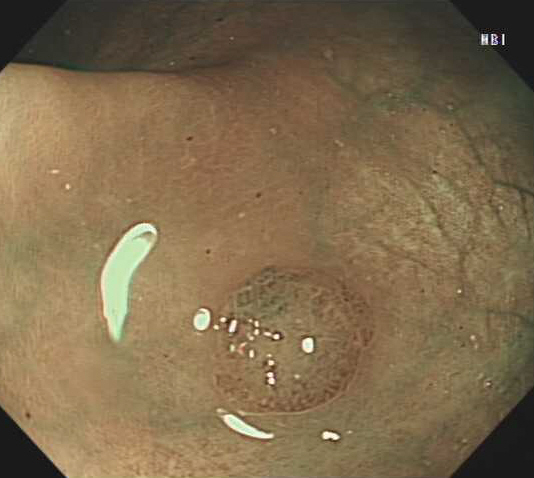adenoma: (197, 262, 379, 417)
